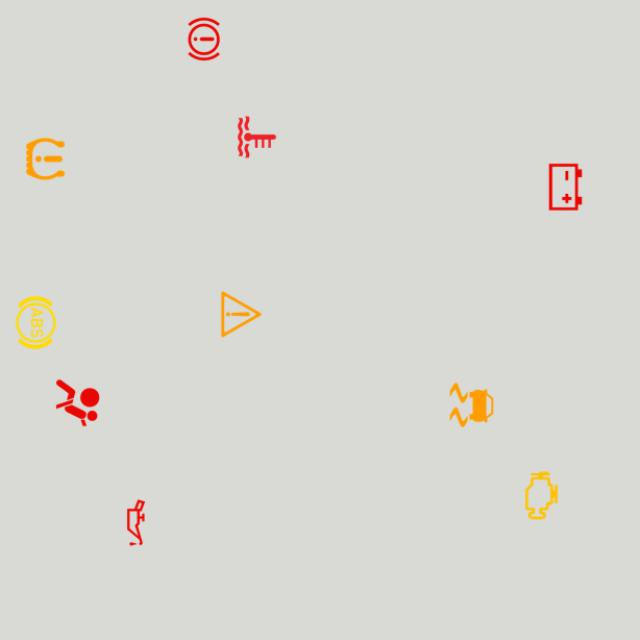Anti Lock Braking System: (7, 294, 65, 351)
Braking System Issue: (175, 10, 233, 68)
Charging System Issue: (537, 158, 594, 216)
Check Engine: (513, 467, 570, 524)
Electronic Stability Problem -ESP-: (443, 376, 500, 434)
Engine Overheating Warning Light: (228, 108, 286, 166)
Low Engine Oil Warning Light: (107, 494, 165, 551)
Low Tire Pressure Warning Light: (17, 130, 74, 188)
Master warning light: (213, 286, 270, 343)
SRS-Airbag: (49, 374, 106, 432)
